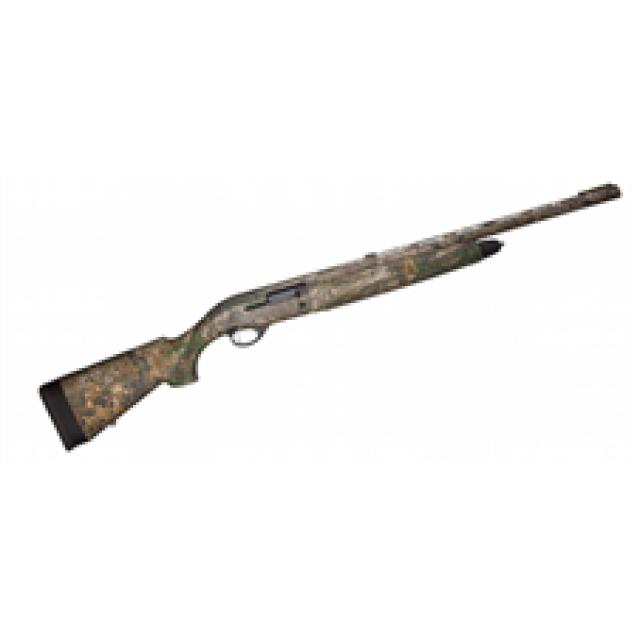rifle: (35, 175, 626, 455)
